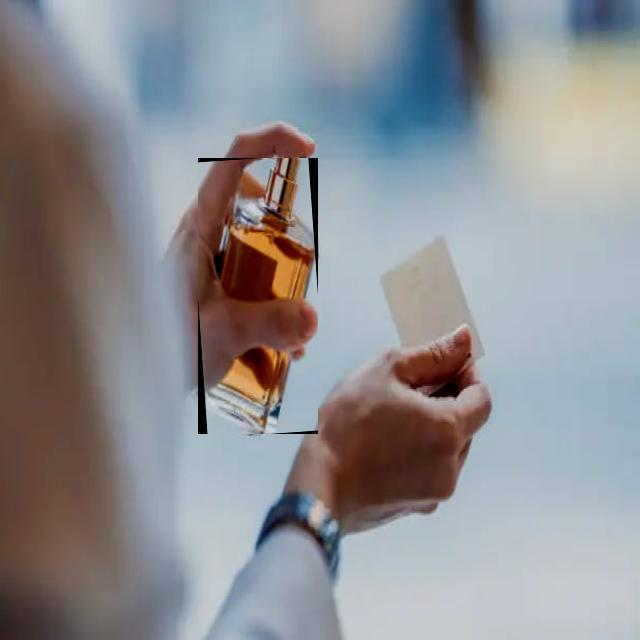Bottle: (219, 159, 316, 301)
